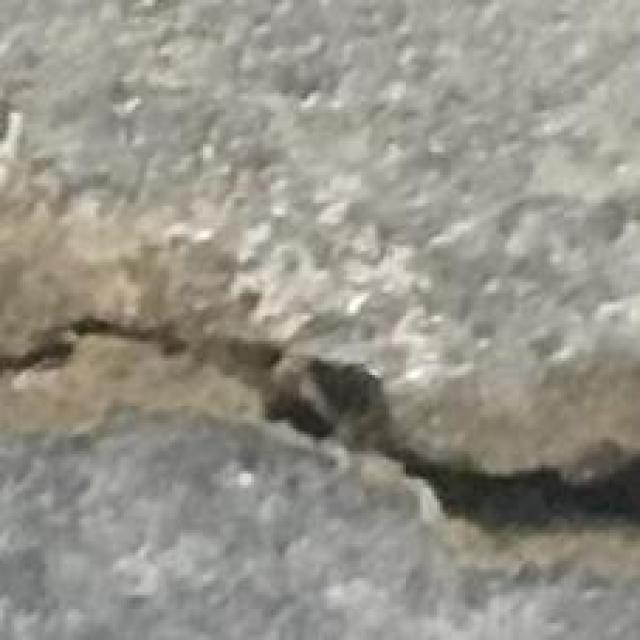horizontal crack: (0, 317, 639, 531)
